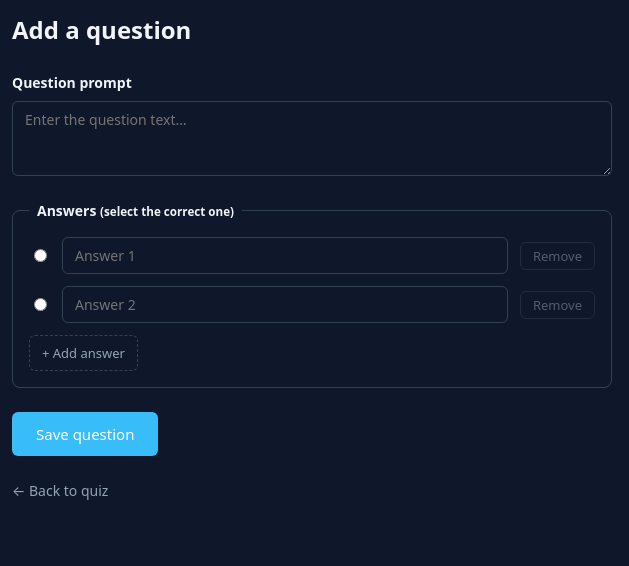
Add question page › adds an answer row when "+ Add answer" is clicked
Click the button "+ Add answer": {"x": 84, "y": 353} [29,335,138,371]
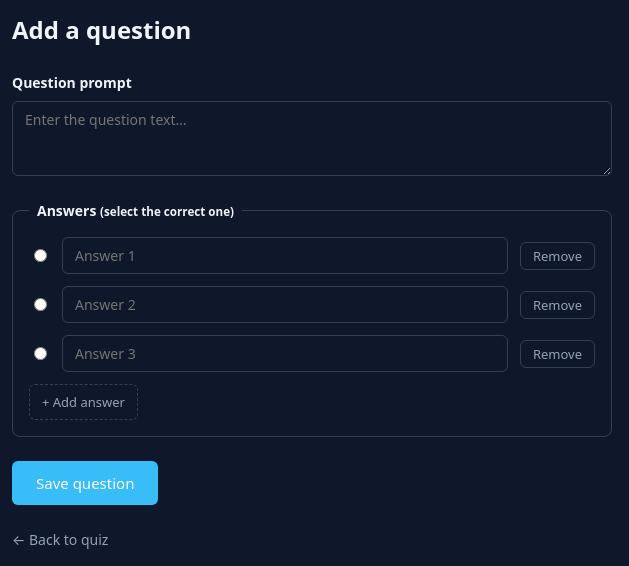
Now the number of elements with class "answer-row" is 3, box [29,237,595,274]; [29,286,595,323]; [29,335,595,372]
